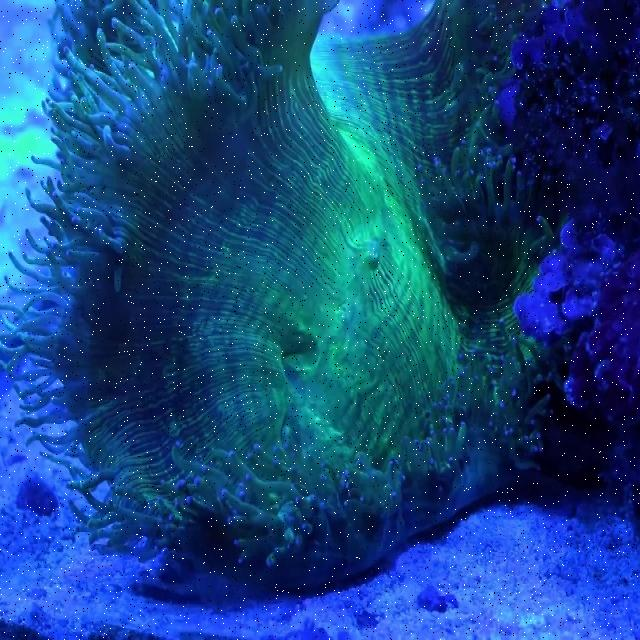reefs: (0, 0, 591, 591), (503, 0, 639, 537)
